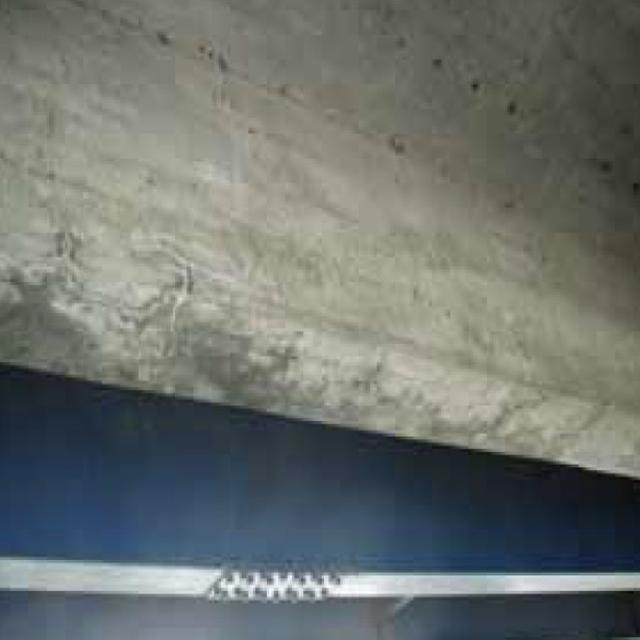crack: (36, 214, 210, 366)
